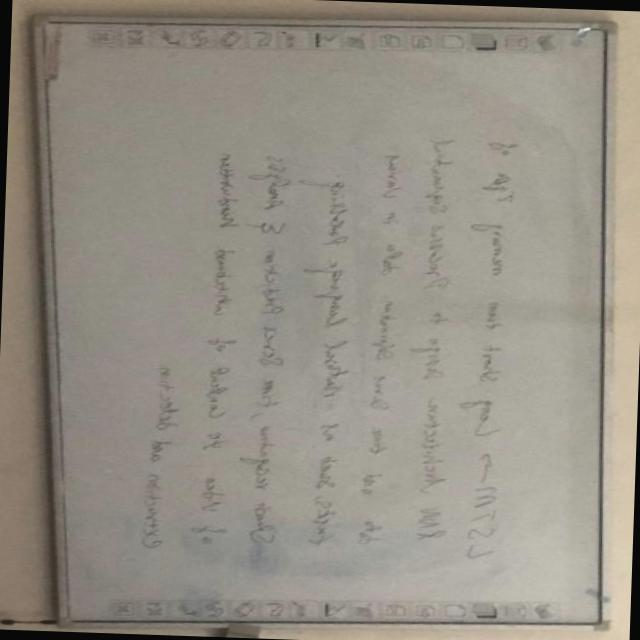White-board: (37, 19, 606, 629)
